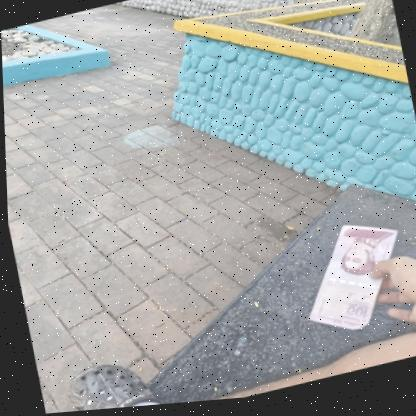one_hundred-front-vef: (289, 218, 411, 346)
